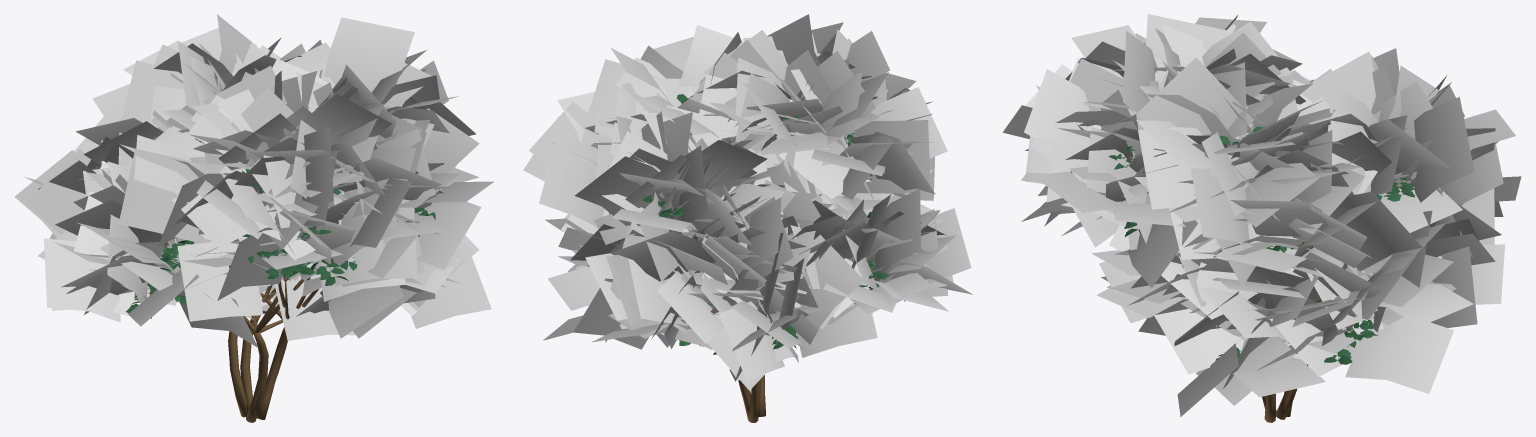
File: Myrte_Dense_LOD0.fbx
3 views of the same model, side by side, from view 1: azimuth 30°, elevation 25°; view 2: azimuth 150°, elevation 25°; view 3: azimuth 270°, elevation 25° (orthographic). The views are drawn at different scales.
Parts seen in each view (by area): view 1: Myrte_Dense; view 2: Myrte_Dense; view 3: Myrte_Dense.
Part boxes in pixels (box(x1,y1,x2,y2)): Myrte_Dense: box(14, 14, 493, 422); Myrte_Dense: box(523, 14, 972, 422); Myrte_Dense: box(1002, 14, 1521, 422).
Size of the model in its own units: 295 by 246 by 292.
